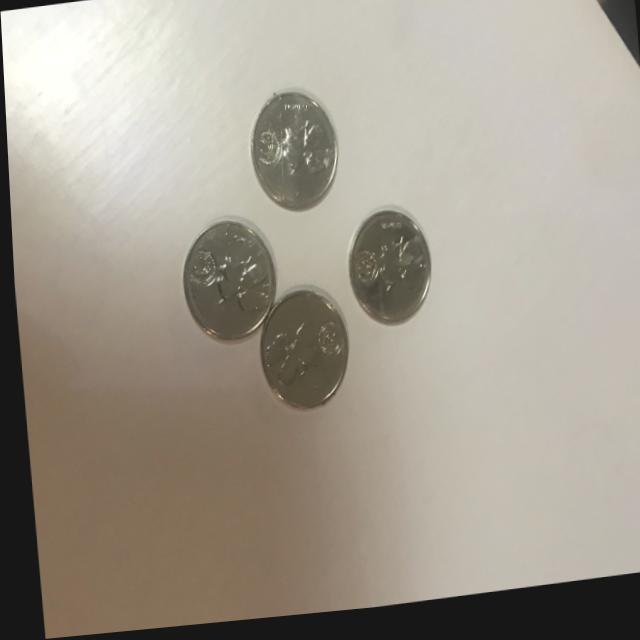25Cent_New_Back: (257, 301, 333, 411), (185, 241, 253, 343), (343, 221, 415, 317), (255, 111, 324, 206)
